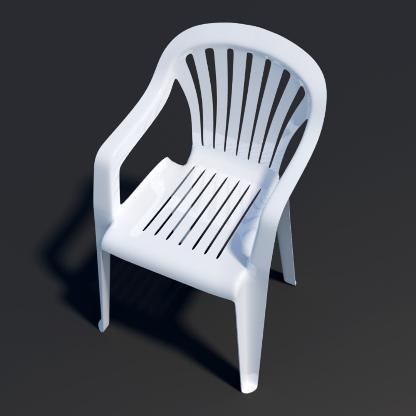chair: (82, 17, 328, 400)
